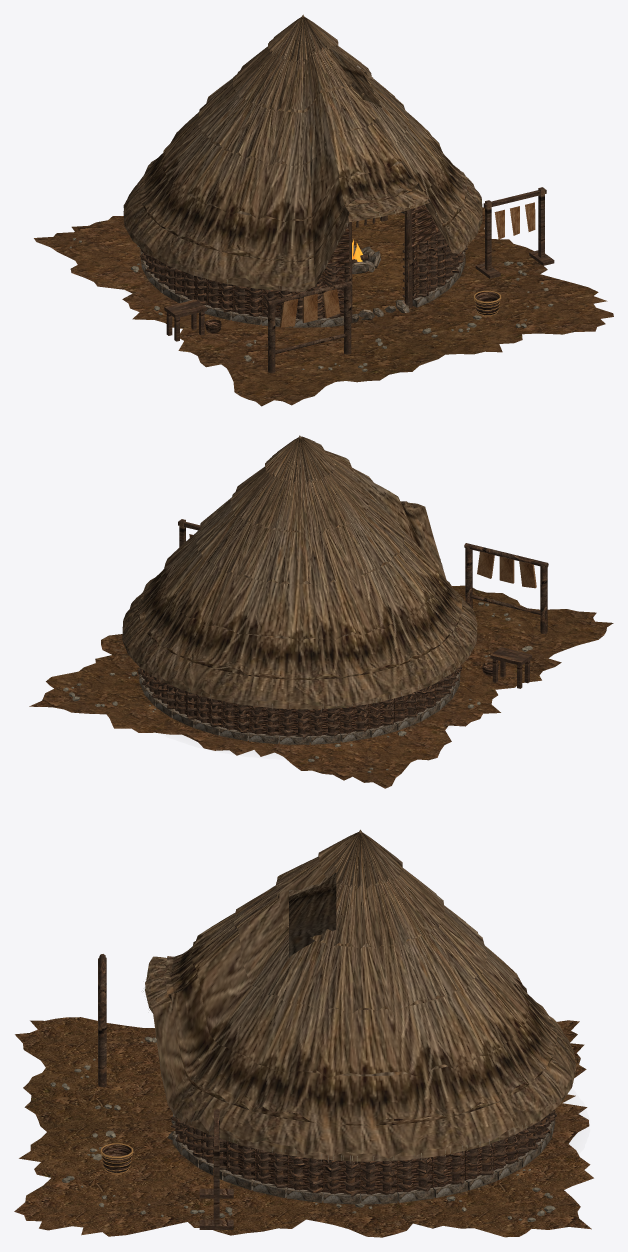
File: hunter.glb
3 renders of one model, top to bottom at view 1: azimuth 30°, elevation 25°; view 2: azimuth 150°, elevation 25°; view 3: azimuth 270°, elevation 25°, orthographic. The views are drawn at different scales.
Visible parts, largest first — view 1: part_14, part_1, part_7, part_0, part_5, part_6, part_4, part_8, part_2; view 2: part_14, part_1, part_7, part_6, part_4, part_5, part_8, part_2; view 3: part_14, part_1, part_7, part_6, part_5, part_4, part_2.
Boxes of the visible parts, x1,y1,x2,y2 form: part_14: [123, 14, 482, 291]; part_1: [34, 207, 613, 406]; part_7: [143, 187, 554, 373]; part_0: [352, 212, 404, 319]; part_5: [153, 199, 499, 333]; part_6: [140, 232, 467, 319]; part_4: [140, 211, 465, 327]; part_8: [280, 202, 535, 327]; part_2: [69, 222, 553, 371]; part_14: [122, 435, 477, 709]; part_1: [29, 585, 613, 788]; part_7: [143, 519, 548, 736]; part_6: [137, 665, 462, 738]; part_4: [139, 667, 460, 744]; part_5: [148, 662, 498, 735]; part_8: [189, 534, 536, 588]; part_2: [63, 599, 532, 772]; part_14: [145, 829, 575, 1161]; part_1: [14, 1017, 593, 1237]; part_7: [98, 954, 551, 1229]; part_6: [170, 1110, 556, 1196]; part_5: [102, 1085, 541, 1193]; part_4: [168, 1109, 555, 1204]; part_2: [50, 1036, 555, 1221].
Bounding box in the file's own units: 5.55 × 3.5 × 6.34.
15 materials, 9 textured.
